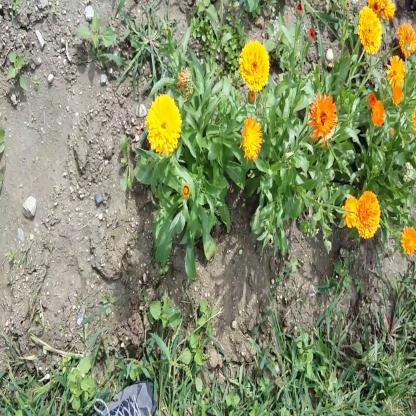marigold: (146, 92, 181, 153), (240, 40, 270, 88), (309, 96, 337, 140), (356, 5, 381, 53), (240, 111, 263, 158), (355, 190, 379, 235), (341, 191, 363, 228), (388, 58, 404, 93), (397, 25, 415, 56), (401, 226, 416, 254), (371, 98, 385, 128), (391, 78, 404, 106)
